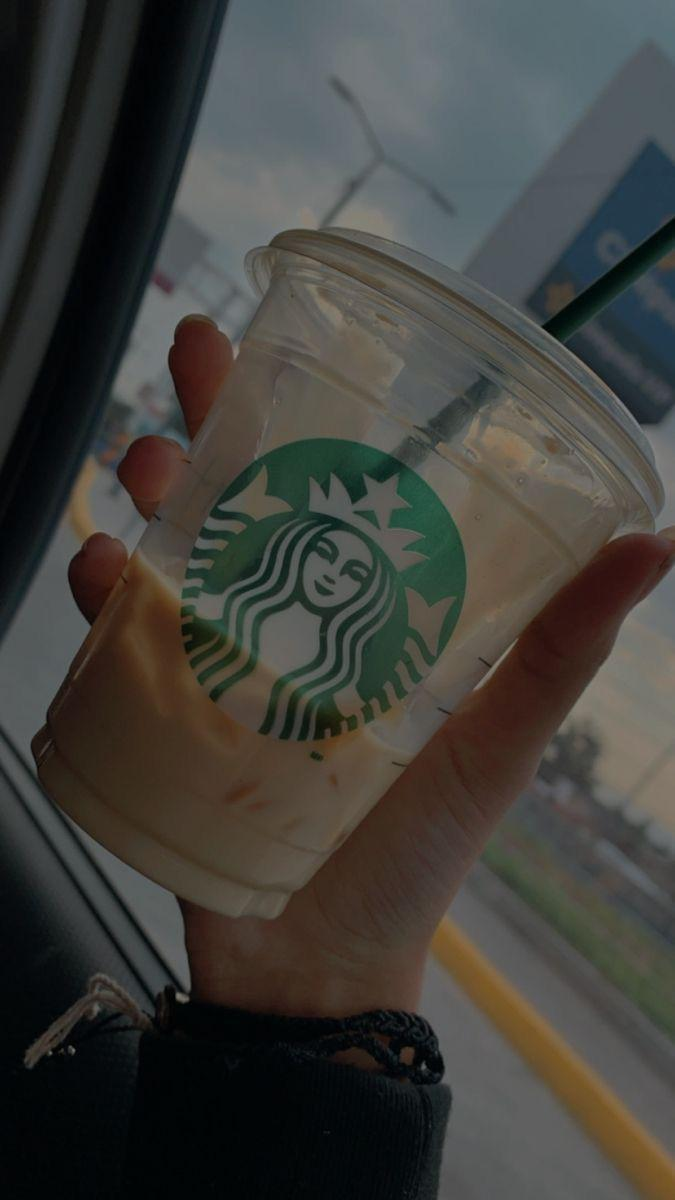cup-disposable: (29, 225, 665, 922)
